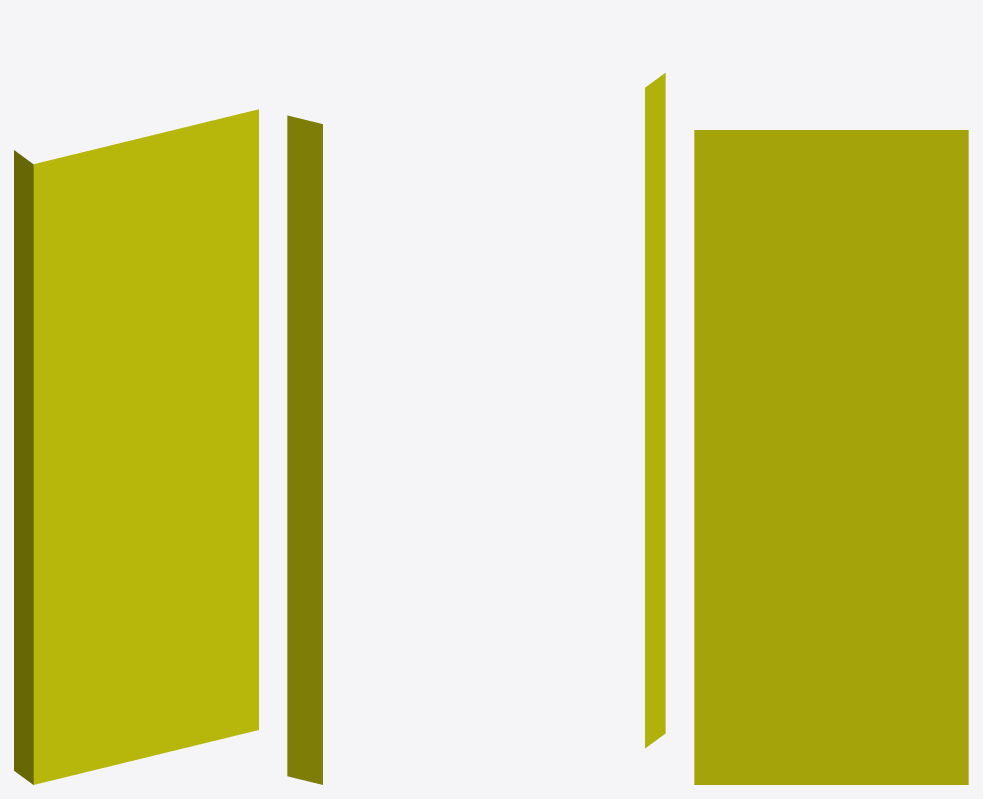
The model's file is brick-cornercolumn-center.glb.
3 views of the same model, side by side, from view 1: azimuth 30°, elevation 25°; view 2: azimuth 150°, elevation 25°; view 3: azimuth 270°, elevation 25° (orthographic). The views are drawn at different scales.
Visible parts, largest first — view 1: Brick_CornerColumn_Center; view 2: Brick_CornerColumn_Center; view 3: Brick_CornerColumn_Center.
Boxes of the visible parts, left/top/right/bottom form: Brick_CornerColumn_Center: left=14, top=109, right=258, bottom=784; Brick_CornerColumn_Center: left=287, top=73, right=665, bottom=784; Brick_CornerColumn_Center: left=694, top=130, right=968, bottom=784.
Size of the model in its own units: 1.14 by 3 by 1.14.
Materials: 1 (1 with a texture image).
